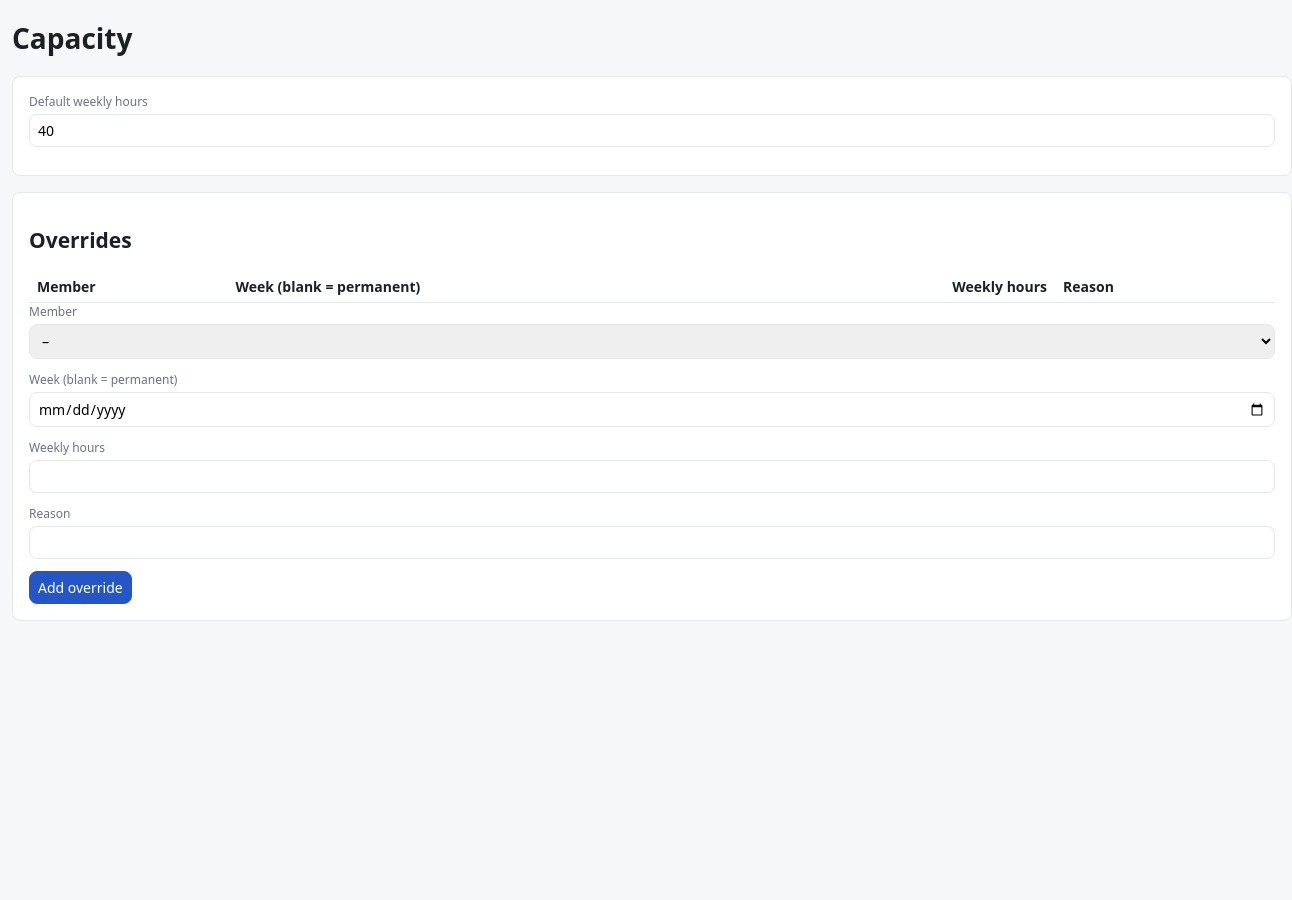
Capacity › keeps the typed override values and shows the error when the write fails
Check: the number field showing "40" is shown, box x1=29 y1=114 x2=1275 y2=146
Select "Yara Tazi" in the dropdown labelled "Member" at (652, 342), box x1=29 y1=324 x2=1275 y2=359
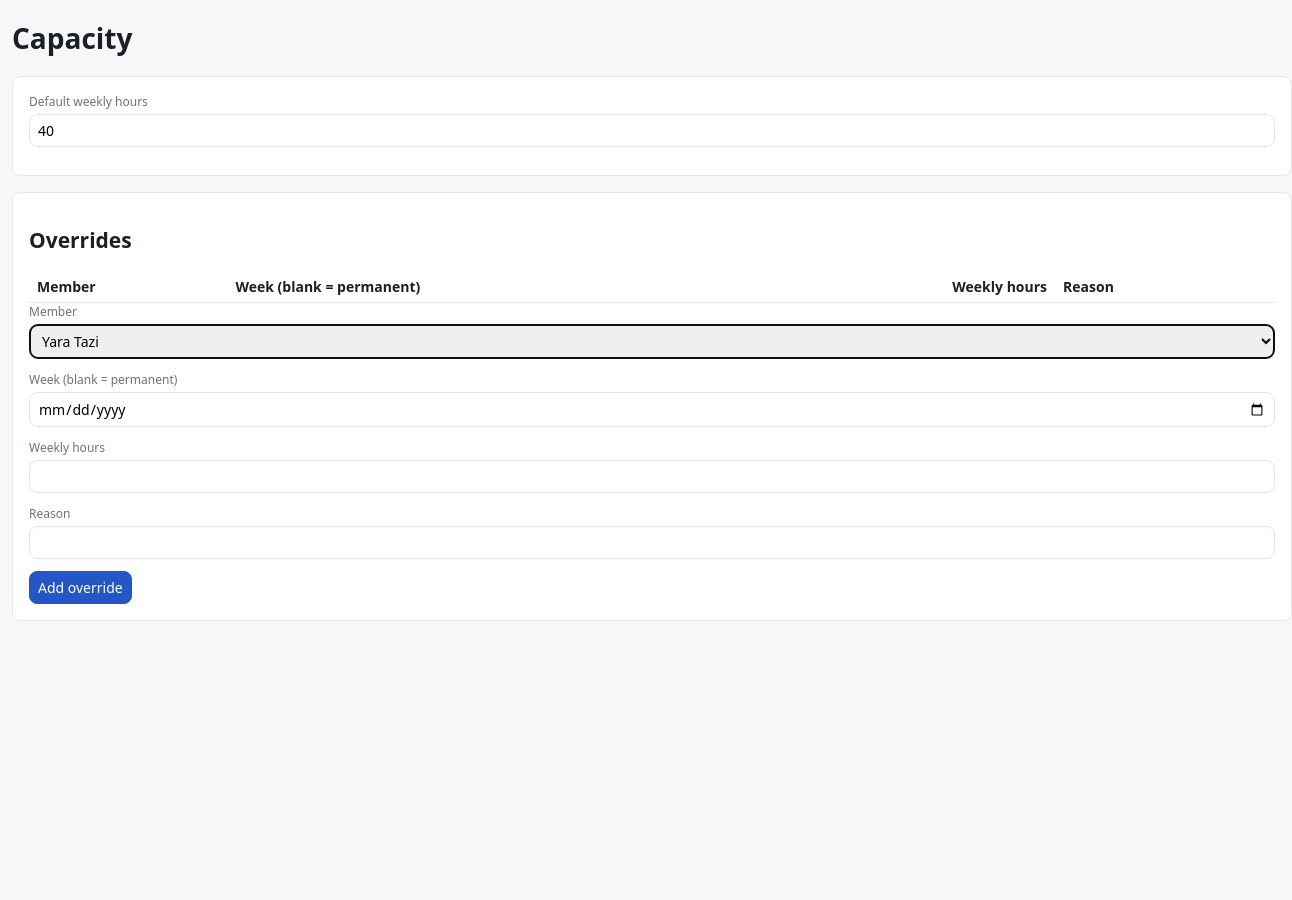
Type "20" into the number field labelled "Weekly hours" at (652, 477), box x1=29 y1=460 x2=1275 y2=493
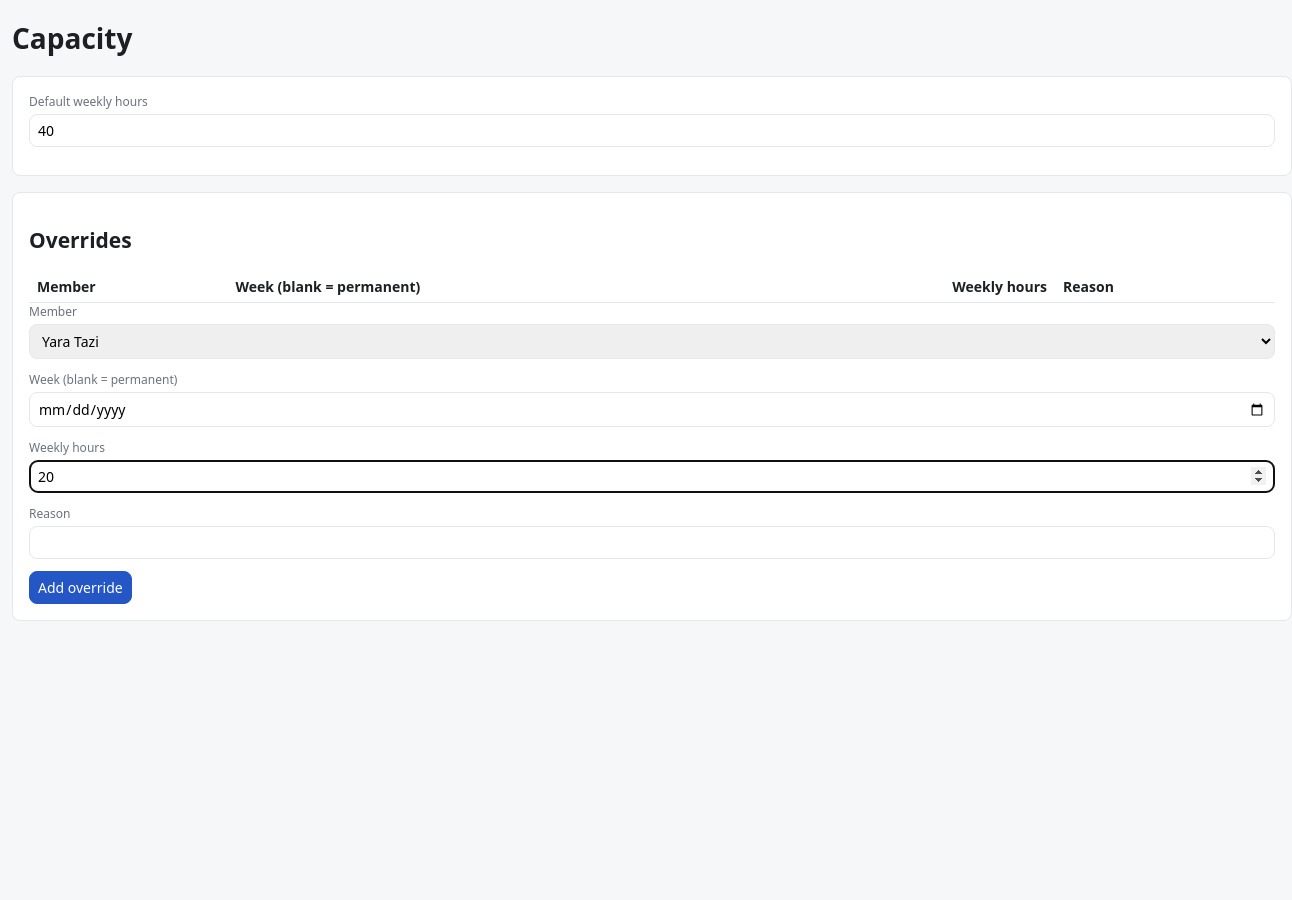
Type "internal project" into the field labelled "Reason" at (652, 543), box x1=29 y1=526 x2=1275 y2=559
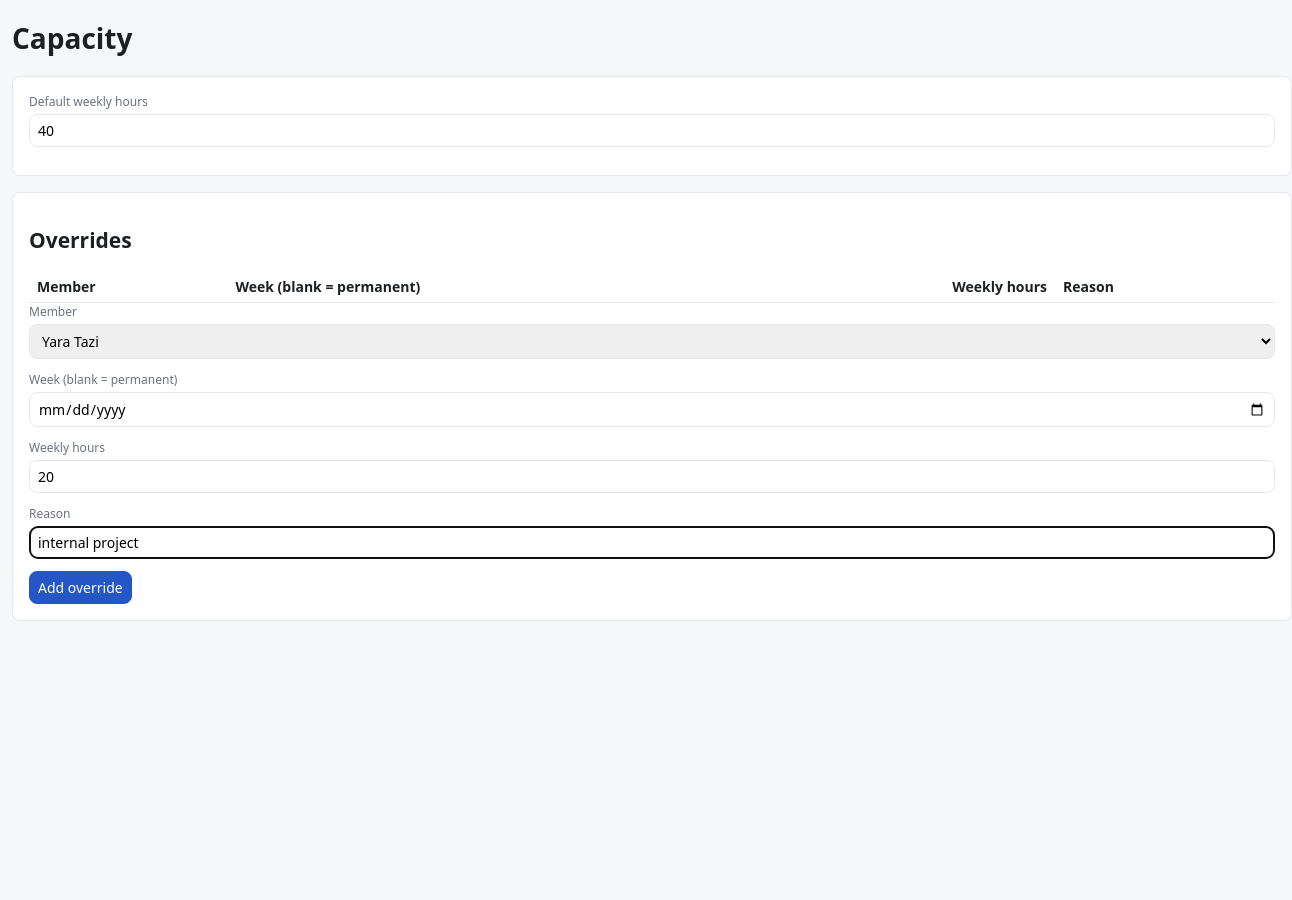
Click the button "Add override" at (80, 588), box x1=29 y1=571 x2=132 y2=604
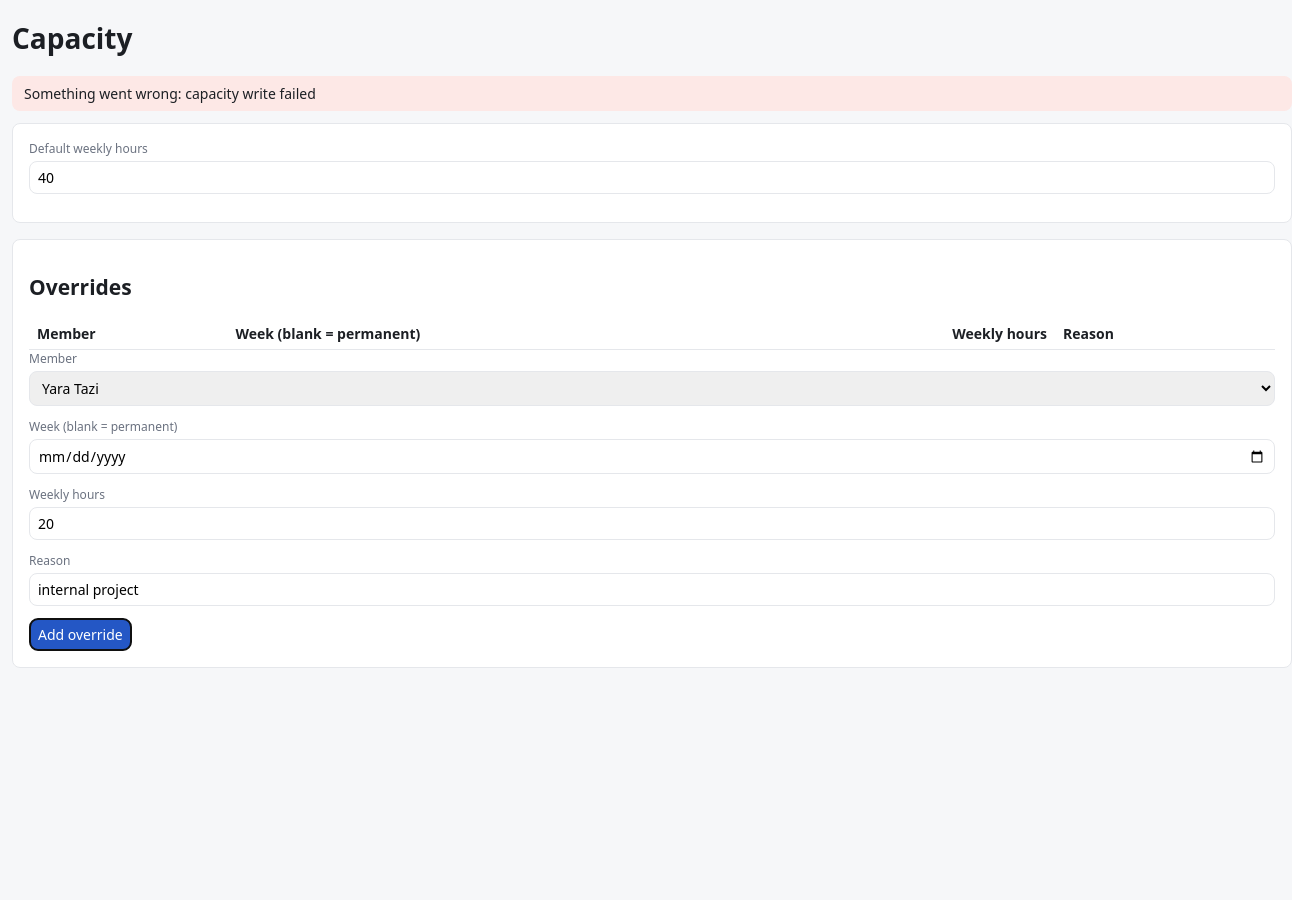
Check: the text "Something went wrong: capacity write failed" is shown, box x1=12 y1=76 x2=1291 y2=110
